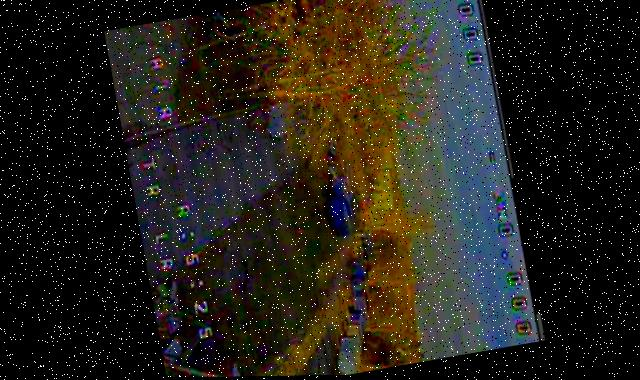truck: (310, 187, 358, 247)
